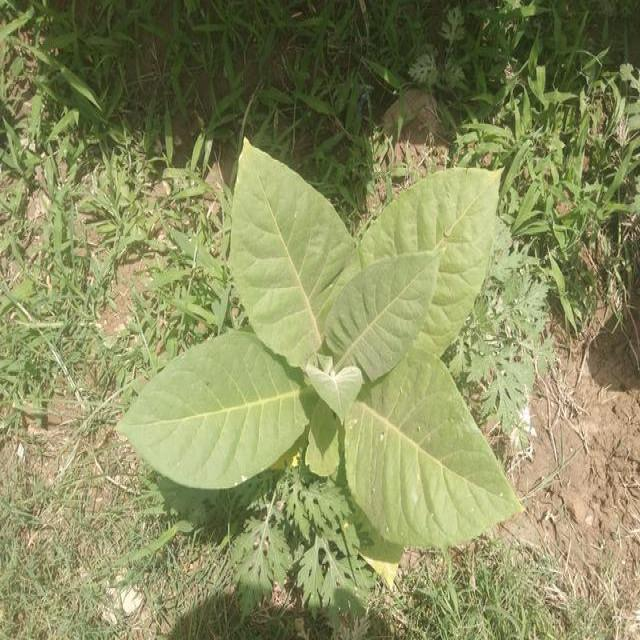crop: (138, 138, 511, 554)
